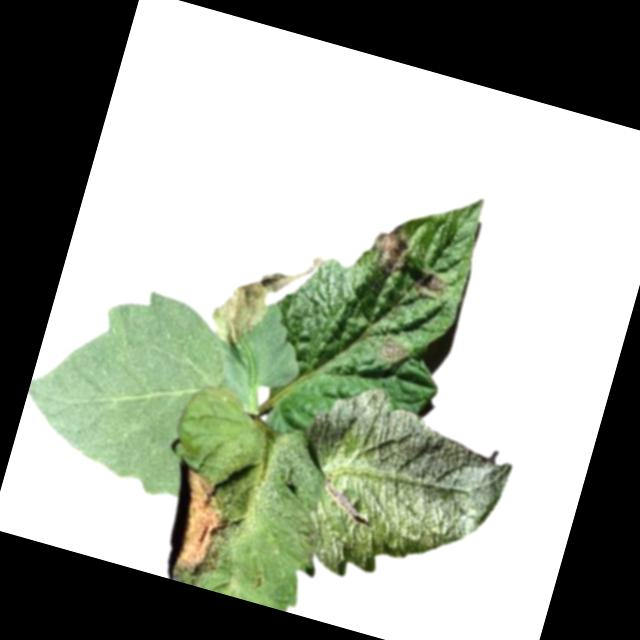Late_blight: (154, 460, 241, 583), (205, 250, 298, 356), (370, 220, 412, 274), (371, 333, 410, 364), (416, 269, 448, 296)
